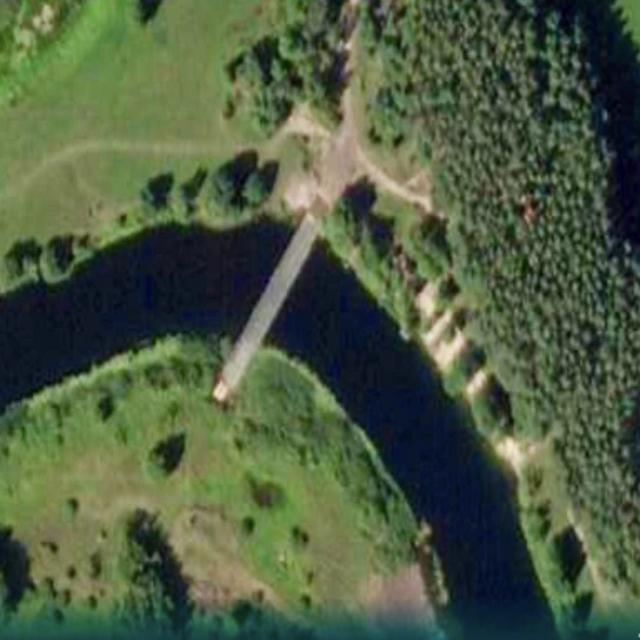fortification: (215, 210, 323, 401)
